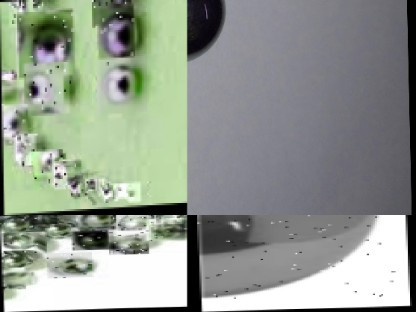ironball: (197, 215, 394, 300), (17, 8, 73, 76), (96, 55, 147, 114), (185, 0, 225, 70), (24, 60, 71, 115), (97, 2, 134, 58), (46, 251, 92, 277), (1, 102, 28, 143), (71, 225, 115, 250), (91, 0, 132, 26), (107, 228, 148, 254), (145, 217, 187, 241), (3, 231, 45, 254), (33, 150, 61, 183), (8, 0, 43, 25), (14, 132, 39, 165), (1, 76, 24, 111), (73, 230, 113, 250), (54, 157, 78, 188), (115, 215, 159, 230), (71, 170, 92, 195), (77, 215, 111, 230), (1, 268, 28, 286), (88, 179, 107, 202), (129, 182, 146, 203), (148, 215, 182, 225), (118, 184, 133, 205), (104, 183, 119, 201), (29, 215, 57, 224)
